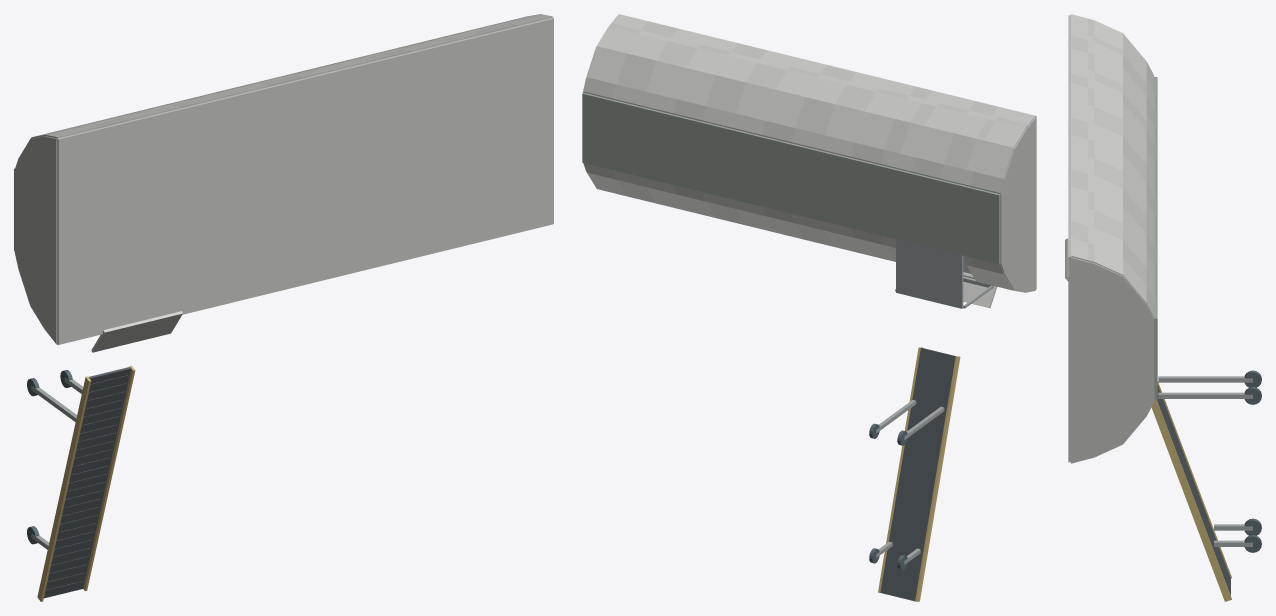
Rendered from manual_reference.glb.
3 views of the same model, side by side, from view 1: azimuth 30°, elevation 25°; view 2: azimuth 150°, elevation 25°; view 3: azimuth 270°, elevation 25° (orthographic). The views are drawn at different scales.
Parts seen in each view (by area): view 1: belt_loader_belt, nb_hold_ceiling_0, nb_hold_ceiling_14, nb_hold_ceiling_7, nb_hold_ceiling_8, nb_hold_ceiling_9, nb_hold_ceiling_10, nb_hold_ceiling_11, nb_hold_ceiling_6, nb_hold_ceiling_12, nb_hold_ceiling_15, nb_hold_ceiling_13 (+9 smaller); view 2: nb_hold_load_floor, belt_loader_belt, nb_hold_bulkhead_0, nb_hold_entry_pocket_floor, belt_loader_edge_r, nb_hold_liner_1_0_1, nb_hold_liner_1_7_1, nb_hold_liner_1_14_1, nb_hold_liner_1_6_1, nb_hold_liner_1_8_1, nb_hold_liner_1_9_1, nb_hold_liner_1_10_1 (+20 smaller); view 3: nb_hold_bulkhead_7.7, belt_loader_edge_l, belt_loader_belt, nb_hold_load_floor, nb_hold_ceiling_15, belt_loader_leg_1.04_-3.4000000000000004, belt_loader_leg_1.56_-3.4000000000000004, nb_hold_liner_1_15_2, nb_hold_liner_1_6_2, nb_hold_liner_1_0_2, nb_hold_liner_1_10_2, nb_hold_liner_1_12_2 (+35 smaller).
Boxes of the visible parts, x1,y1,x2,y2 form: belt_loader_belt: [44, 367, 131, 598]; nb_hold_ceiling_0: [57, 130, 93, 344]; nb_hold_ceiling_14: [482, 26, 518, 241]; nb_hold_ceiling_7: [234, 87, 270, 301]; nb_hold_ceiling_8: [270, 78, 306, 292]; nb_hold_ceiling_9: [305, 69, 341, 284]; nb_hold_ceiling_10: [340, 61, 376, 275]; nb_hold_ceiling_11: [376, 52, 412, 266]; nb_hold_ceiling_6: [199, 95, 235, 310]; nb_hold_ceiling_12: [411, 43, 447, 258]; nb_hold_ceiling_15: [517, 18, 553, 232]; nb_hold_ceiling_13: [447, 35, 482, 249]; nb_hold_load_floor: [582, 93, 1000, 264]; belt_loader_belt: [880, 348, 955, 601]; nb_hold_bulkhead_0: [1000, 117, 1036, 291]; nb_hold_entry_pocket_floor: [896, 239, 963, 308]; belt_loader_edge_r: [915, 356, 960, 601]; nb_hold_liner_1_0_1: [974, 140, 1013, 178]; nb_hold_liner_1_7_1: [825, 104, 864, 142]; nb_hold_liner_1_14_1: [616, 53, 656, 91]; nb_hold_liner_1_6_1: [855, 111, 894, 149]; nb_hold_liner_1_8_1: [795, 97, 834, 135]; nb_hold_liner_1_9_1: [765, 89, 804, 127]; nb_hold_liner_1_10_1: [736, 82, 775, 120]; nb_hold_bulkhead_7.7: [1071, 257, 1154, 462]; belt_loader_edge_l: [1151, 400, 1231, 601]; belt_loader_belt: [1157, 385, 1230, 595]; nb_hold_load_floor: [1154, 77, 1157, 400]; nb_hold_ceiling_15: [1068, 240, 1070, 462]; belt_loader_leg_1.04_-3.4000000000000004: [1158, 376, 1252, 382]; belt_loader_leg_1.56_-3.4000000000000004: [1158, 392, 1252, 398]; nb_hold_liner_1_15_2: [1094, 245, 1122, 275]; nb_hold_liner_1_6_2: [1094, 89, 1122, 119]; nb_hold_liner_1_0_2: [1094, 20, 1122, 50]; nb_hold_liner_1_10_2: [1094, 158, 1122, 188]; nb_hold_liner_1_12_2: [1094, 193, 1122, 222].
Size of the model in its own units: 7.74 by 7.96 by 2.65.
